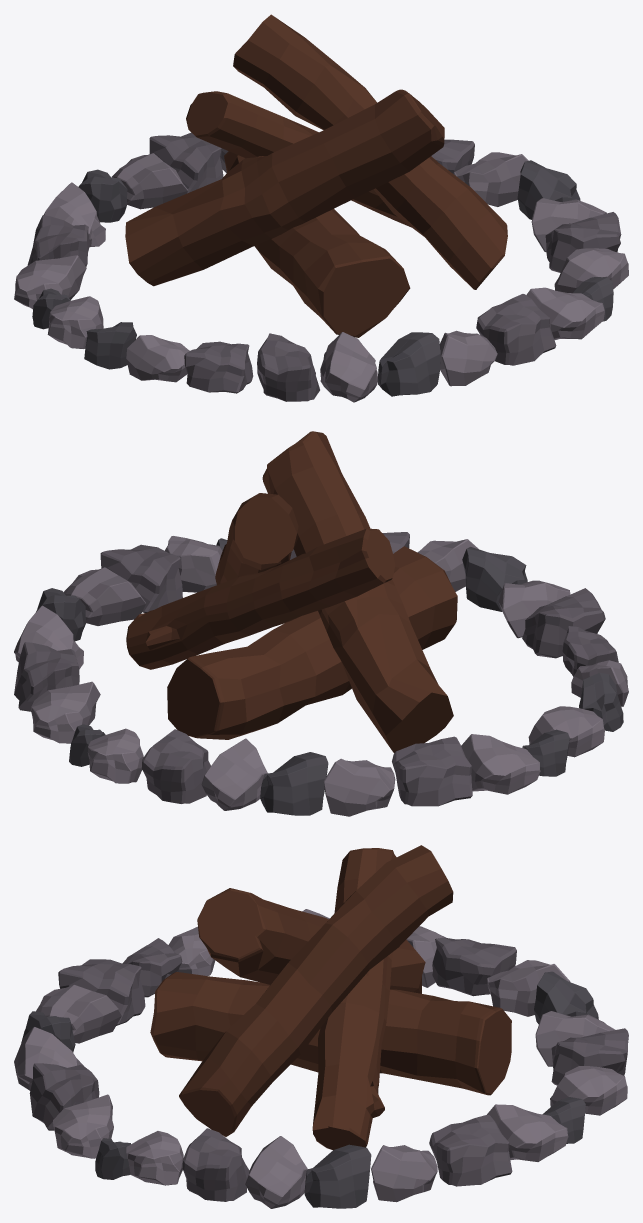
Rendered from Lagerfeuer_zusammen.fbx.
3 views of the same model, one above another, from view 1: azimuth 30°, elevation 25°; view 2: azimuth 150°, elevation 25°; view 3: azimuth 270°, elevation 25° (orthographic). The views are drawn at different scales.
Visible parts, largest first — view 1: Feuerholz1; view 2: Feuerholz1; view 3: Feuerholz1.
Boxes of the visible parts, x1,y1,x2,y2 form: Feuerholz1: (14,14,628,402); Feuerholz1: (14,431,628,816); Feuerholz1: (14,845,628,1208).
Bounding box in the file's own units: 206 × 84.99 × 198.
